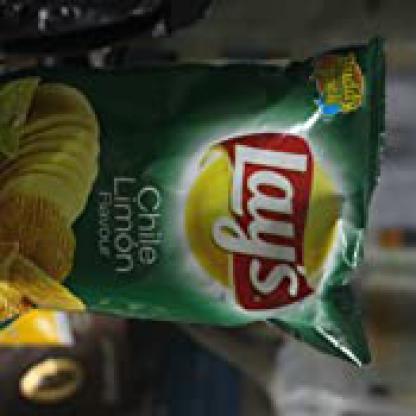chile_limon: (0, 34, 392, 368)
